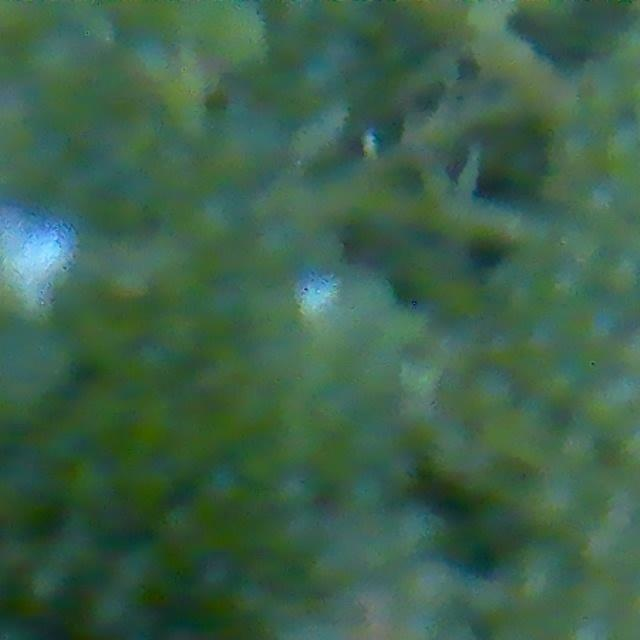SeaGrape: (507, 544, 566, 606), (403, 557, 462, 612), (594, 251, 640, 304), (465, 368, 514, 417), (577, 187, 622, 240), (536, 264, 582, 309), (602, 129, 640, 182), (579, 313, 617, 348)
